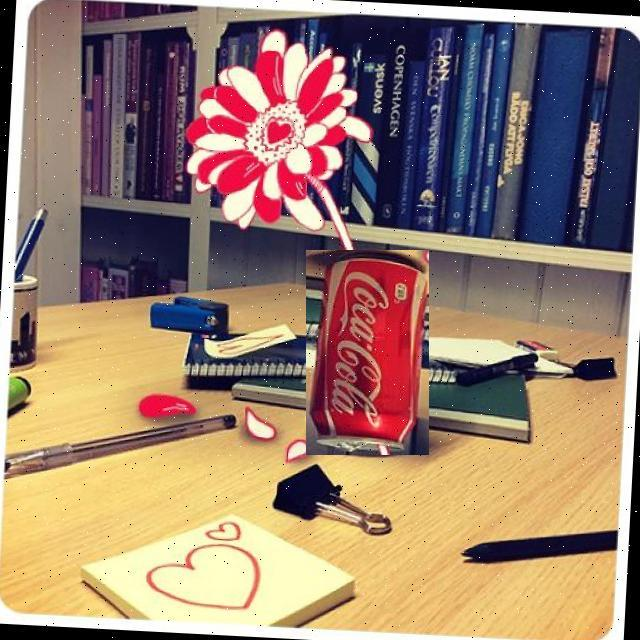coca-cola: (306, 250, 429, 455)
